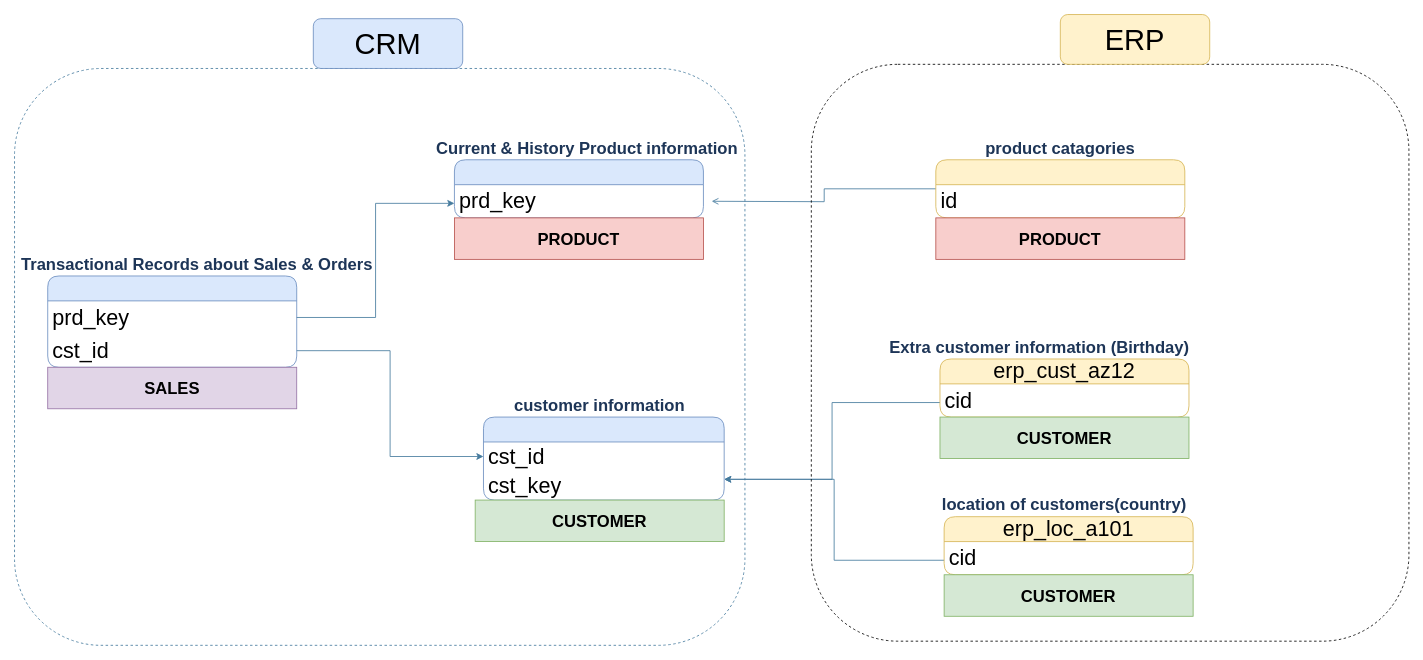
Image size: 1423x660. Some labels were removed from this diagram. Each missing label, with the box of its shape:
crm_cust_info: (483, 416, 724, 500)
crm_prd_info: (454, 159, 703, 218)
crm_sales_details: (47, 275, 297, 367)
erp_px_cat-g1v2: (935, 159, 1185, 218)
